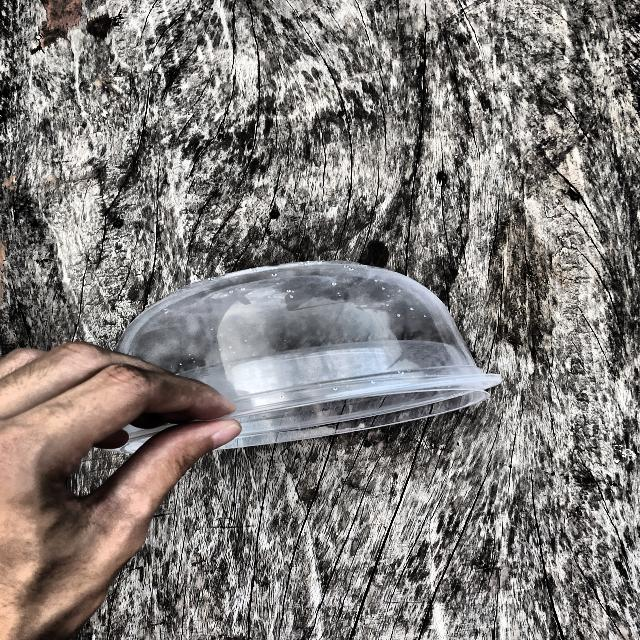plastic container: (76, 241, 524, 498)
